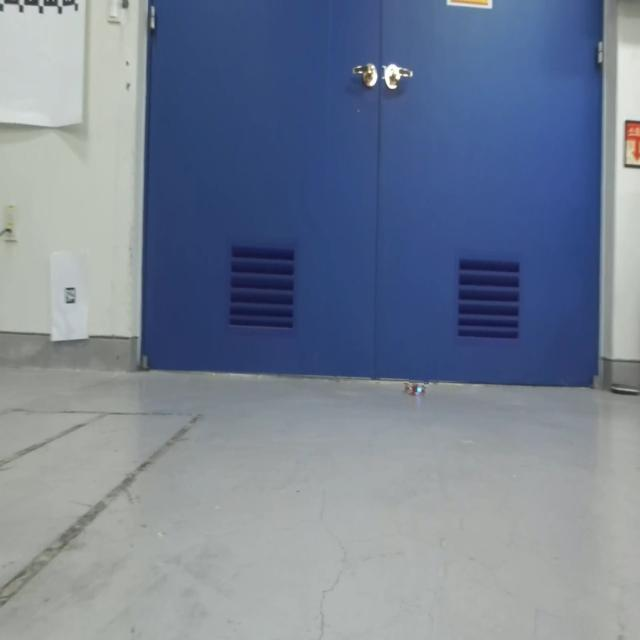crazyflie: (401, 377, 429, 399)
